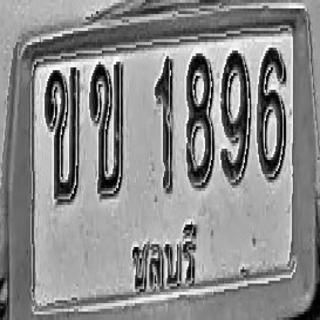A02: (44, 66, 80, 204), (90, 62, 124, 196)
N01: (155, 55, 173, 195)
N06: (257, 45, 285, 180)
N08: (186, 51, 214, 188)
N09: (220, 49, 250, 184)
P13: (127, 217, 202, 295)
